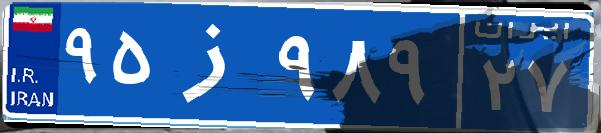2: (475, 38, 525, 113)
5: (110, 28, 158, 105)
7: (525, 38, 570, 115)
8: (330, 28, 385, 110)
9: (385, 28, 445, 110), (273, 28, 330, 110), (57, 26, 110, 107)
ز: (158, 15, 273, 115)
